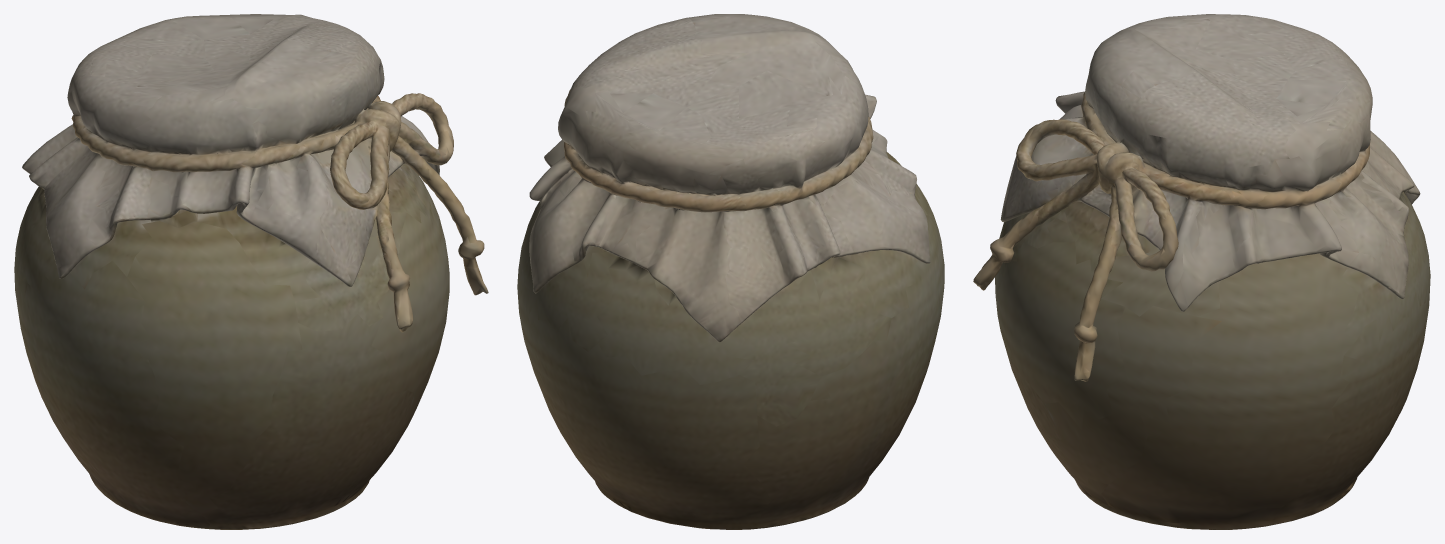
Rendered from Artifact_CP2.fbx.
The picture shows the model from 3 angles, left to right: view 1: azimuth 30°, elevation 25°; view 2: azimuth 150°, elevation 25°; view 3: azimuth 270°, elevation 25°; orthographic projection. The views are drawn at different scales.
Visible parts, largest first — view 1: Body_CP2; view 2: Body_CP2; view 3: Body_CP2.
Boxes of the visible parts, x1,y1,x2,y2 form: Body_CP2: [14, 14, 488, 529]; Body_CP2: [517, 14, 944, 529]; Body_CP2: [973, 14, 1430, 529].
Bounding box in the file's own units: 0.2033 × 0.22 × 0.2123.
